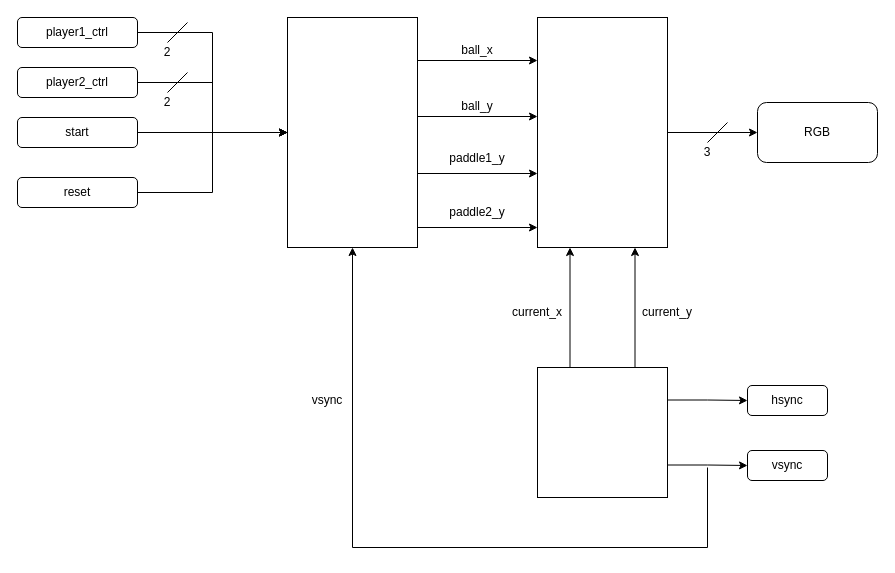
This 895x573 diagram has some shape labels left out. The shapes that lost their labels are listed below. From the top down, each one's centre as x and y in pixels, then its label:
At pixel 352 132: "game logic".
At pixel 602 132: "pixel gen".
At pixel 602 432: "VGA".
